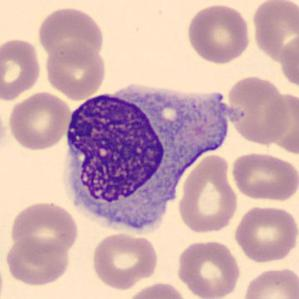Monocyte: (56, 74, 233, 240)
RBC: (176, 152, 239, 236), (224, 74, 292, 147), (185, 2, 253, 65), (90, 230, 160, 291), (8, 199, 80, 258), (174, 238, 242, 299), (36, 5, 106, 63), (232, 203, 298, 264), (6, 90, 72, 151), (43, 40, 108, 101), (3, 234, 72, 288), (229, 150, 298, 202), (250, 0, 298, 64), (0, 35, 43, 102), (263, 90, 299, 156), (241, 265, 298, 299), (125, 280, 191, 299), (278, 31, 298, 91), (0, 99, 8, 160)
